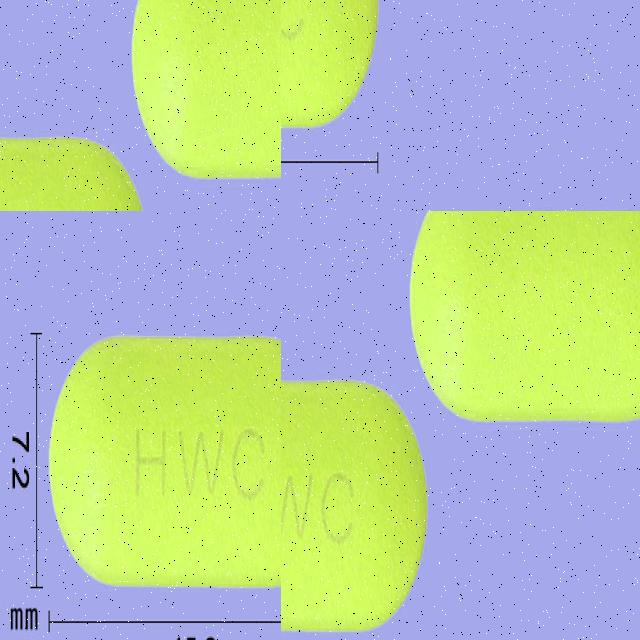Clacid - 250mg: (407, 211, 640, 427), (281, 370, 434, 640)
Clamacin: (116, 0, 281, 185), (0, 113, 178, 211)
Clarosin - 250mg: (134, 411, 281, 640)
